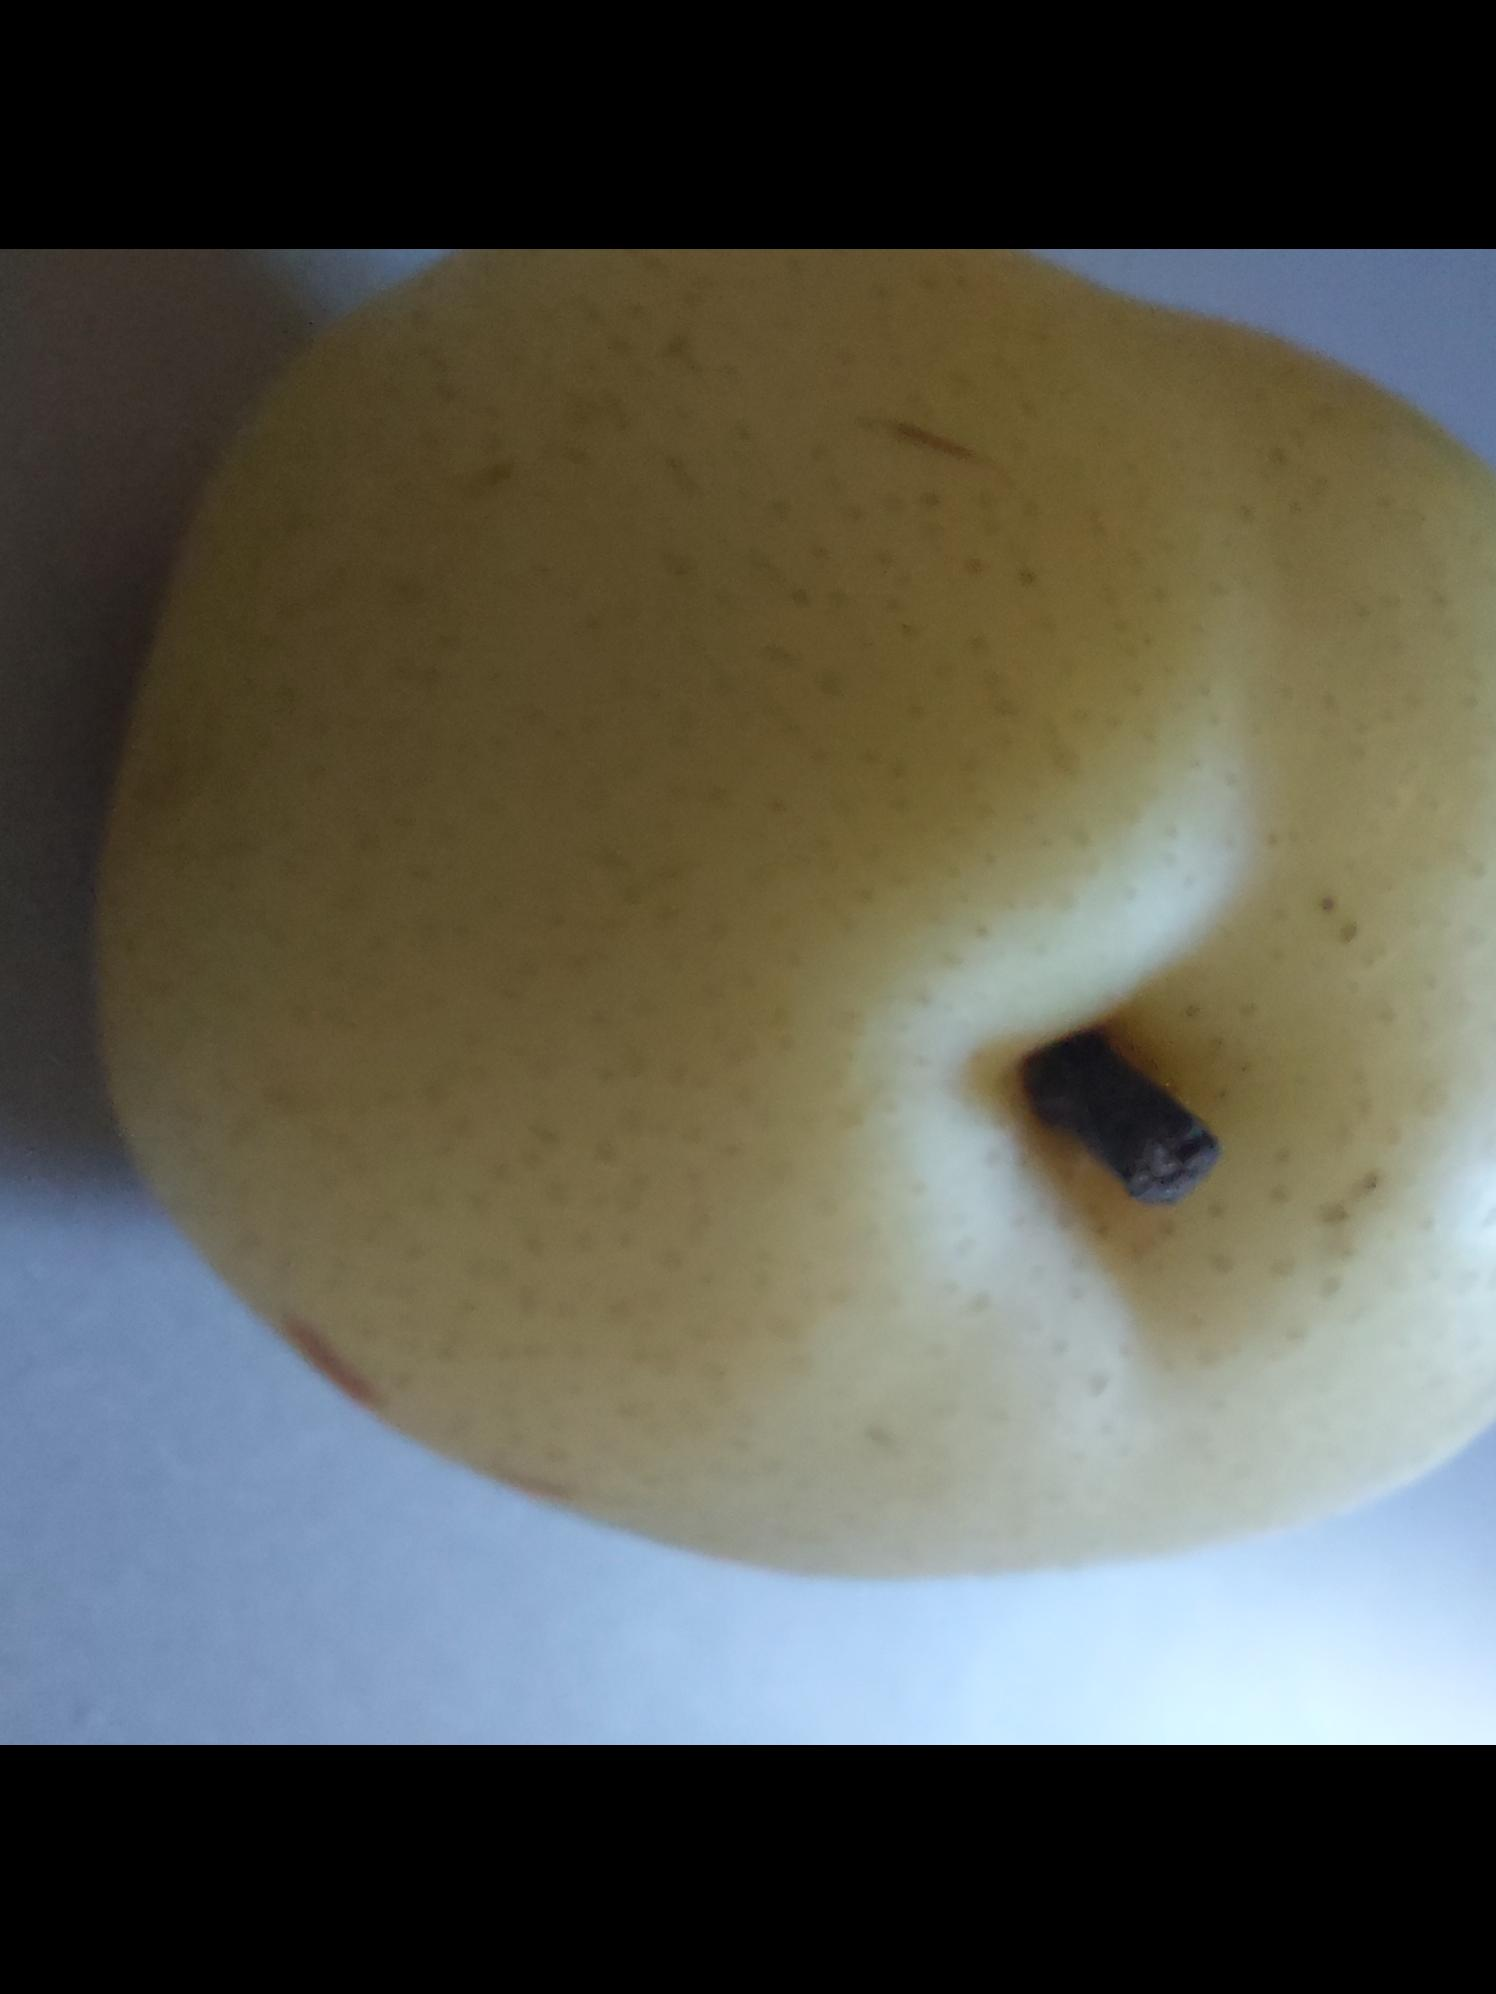Good Pear: (52, 248, 1496, 1581)
